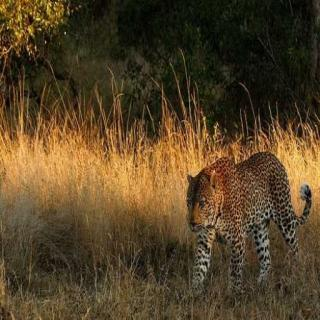Leopard: (165, 123, 319, 301)
